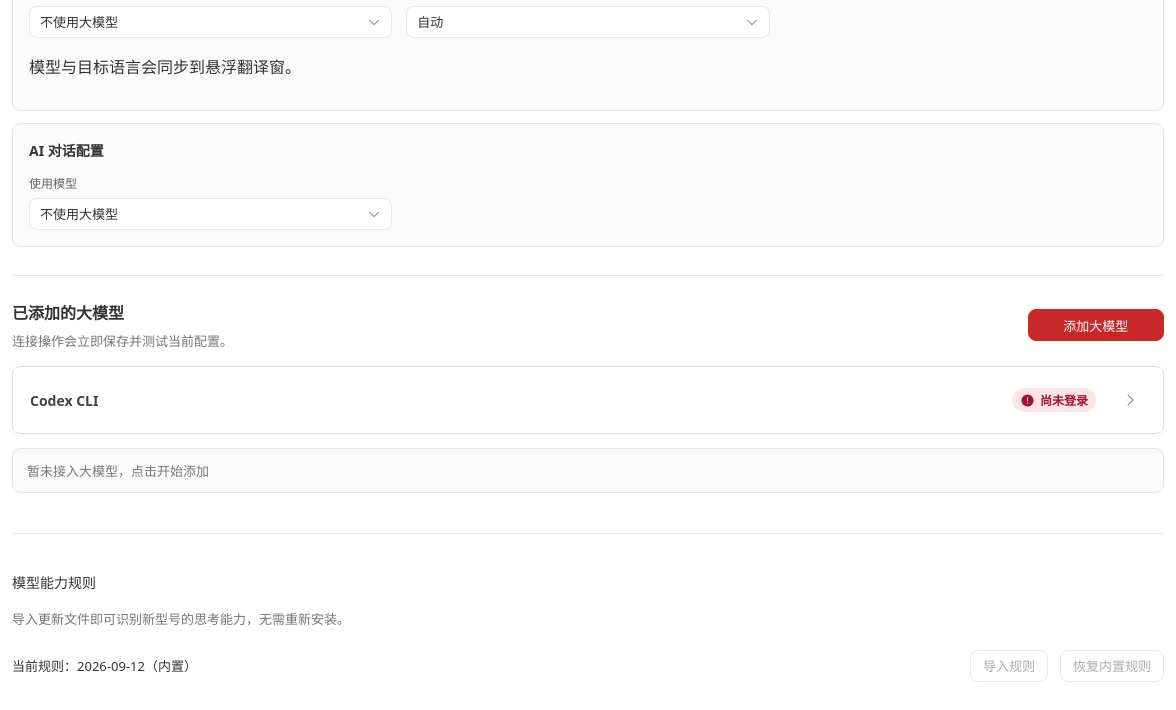
reuses a saved logged-out connection and refreshes its models after explicit login
(page scrolled)
Click the button with aria-label "Codex CLI详情" at {"x": 64, "y": 400}, box x1=30 y1=384 x2=1146 y2=416
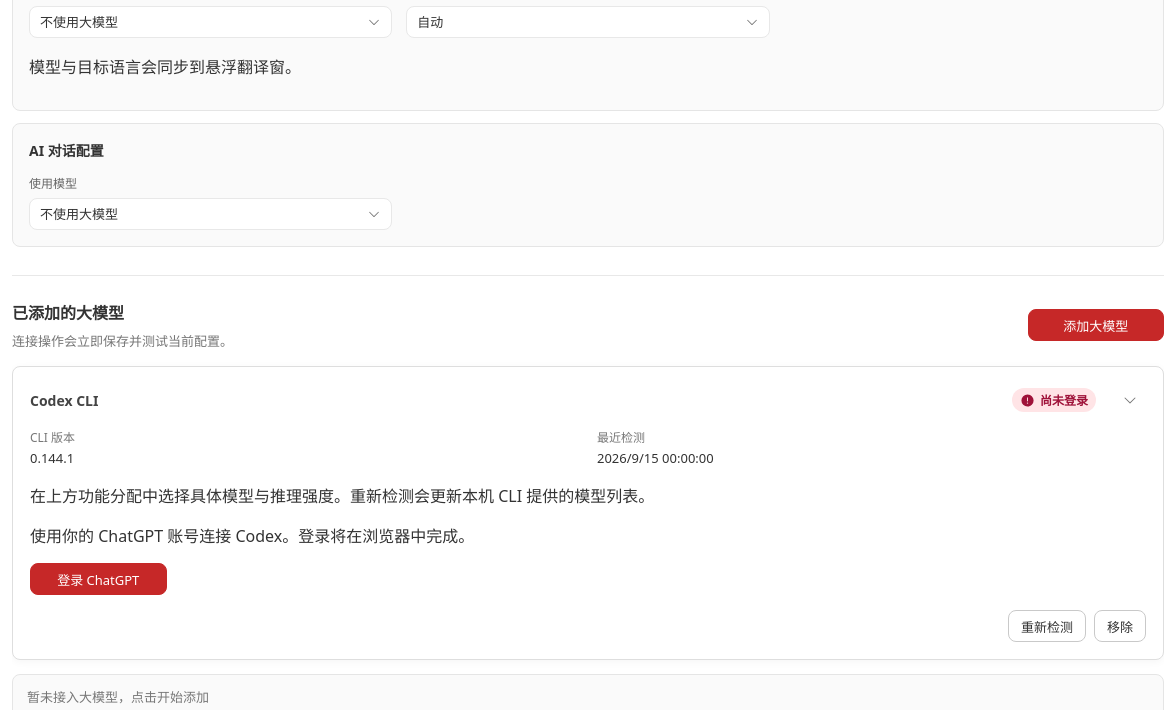
Click the button "登录 ChatGPT" at {"x": 98, "y": 579}, box x1=30 y1=563 x2=166 y2=595
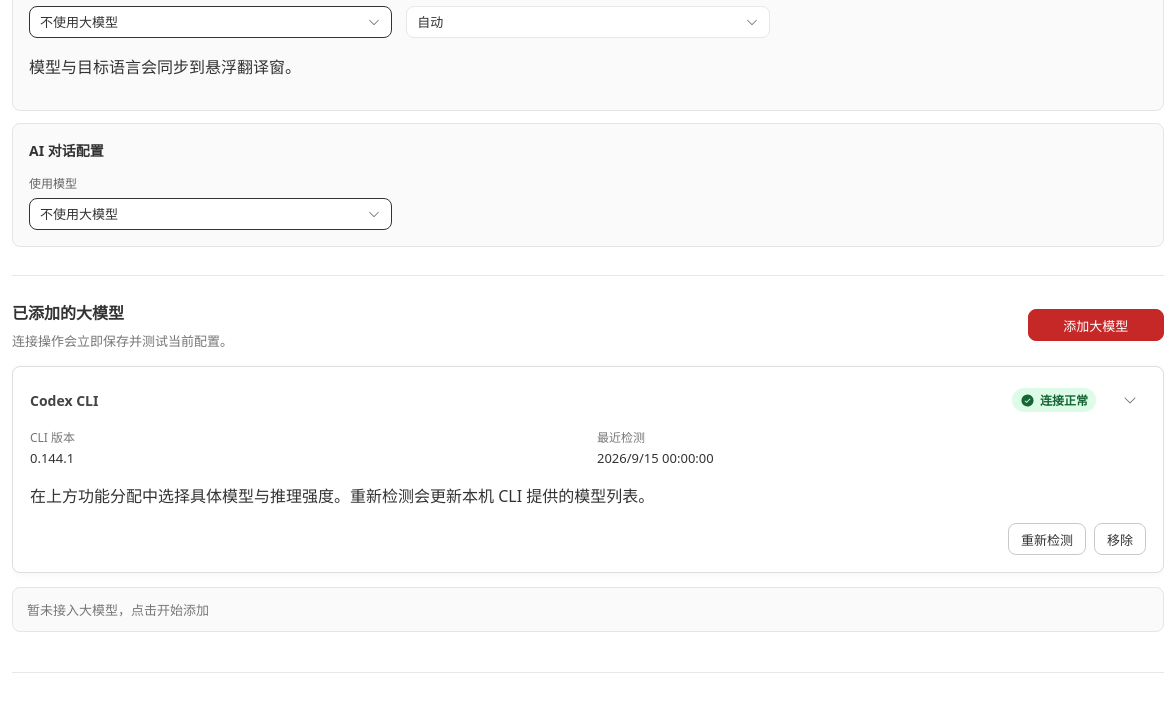
Expected: the button "登录 ChatGPT" is gone
